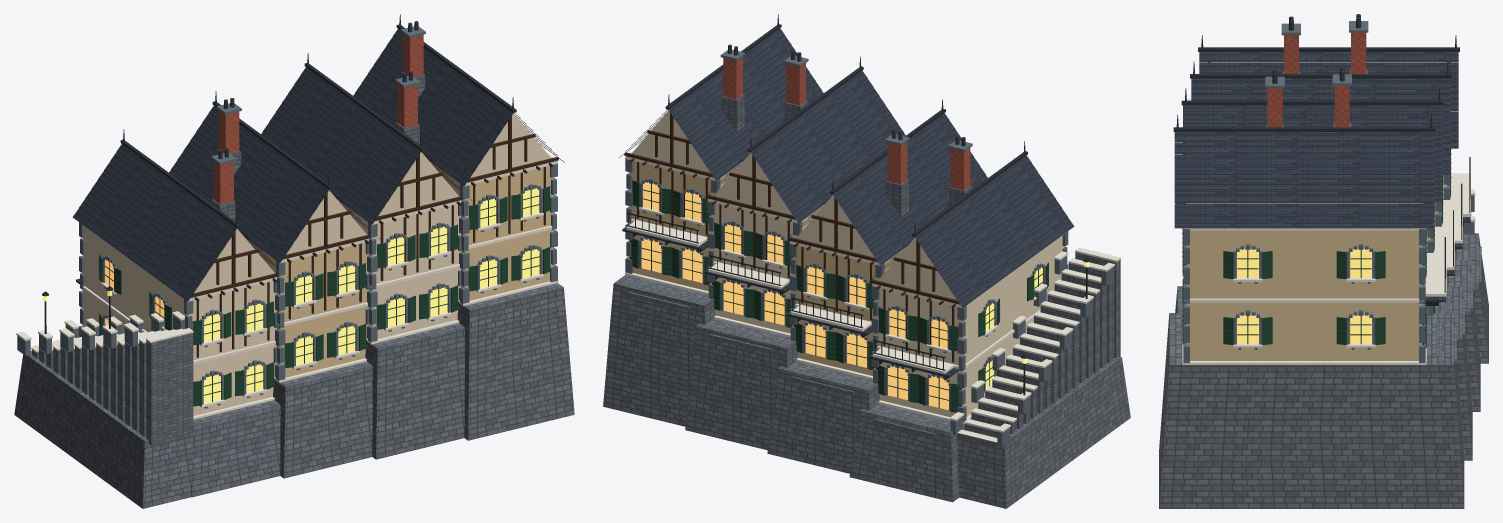
File: fv_nb_09_doc_nha_bo_mid_slope_retaining_villas.glb
3 renders of one model, left to right at view 1: azimuth 30°, elevation 25°; view 2: azimuth 150°, elevation 25°; view 3: azimuth 270°, elevation 25°, orthographic. The views are drawn at different scales.
Visible parts, largest first — view 1: Foundation_Skirt_Neg3p5m, Stepped_Normandy_Brittany_Roof, Shophouse_Stucco_Primary, Stone_Quoins_And_Arches, Shophouse_Stucco_Accent, PineGreen_Louvered_Shutters, Molded_Cornices_And_Sills, Warm_Night_Windows_20h00_Blend, Exposed_Timber_Trusses_And_Rafters, Roof_Ridges_Caps_And_Finials, Brick_Chimney_Stacks, Villa_Interior_Backing; view 2: Foundation_Skirt_Neg3p5m, Stepped_Normandy_Brittany_Roof, Shophouse_Stucco_Primary, Molded_Cornices_And_Sills, Stone_Quoins_And_Arches, PineGreen_Louvered_Shutters, Warm_Night_Windows_20h00_Blend, Exposed_Timber_Trusses_And_Rafters, Shophouse_Stucco_Accent, Roof_Ridges_Caps_And_Finials, Brick_Chimney_Stacks, Wrought_Iron_Balustrades_And_Lamps (+1 smaller); view 3: Foundation_Skirt_Neg3p5m, Stepped_Normandy_Brittany_Roof, Shophouse_Stucco_Accent, Molded_Cornices_And_Sills, Roof_Ridges_Caps_And_Finials, Stone_Quoins_And_Arches, PineGreen_Louvered_Shutters, Brick_Chimney_Stacks, Warm_Night_Windows_20h00_Blend, Wrought_Iron_Balustrades_And_Lamps.
Boxes of the visible parts, x1,y1,x2,y2 form: Foundation_Skirt_Neg3p5m: (14,72,574,508); Stepped_Normandy_Brittany_Roof: (72,21,513,301); Shophouse_Stucco_Primary: (83,113,551,415); Stone_Quoins_And_Arches: (17,26,557,408); Shophouse_Stucco_Accent: (246,163,553,377); PineGreen_Louvered_Shutters: (98,186,550,406); Molded_Cornices_And_Sills: (16,153,558,419); Warm_Night_Windows_20h00_Blend: (43,188,539,403); Exposed_Timber_Trusses_And_Rafters: (191,116,558,357); Roof_Ridges_Caps_And_Finials: (120,14,564,277); Brick_Chimney_Stacks: (213,34,423,204); Villa_Interior_Backing: (107,190,538,402); Foundation_Skirt_Neg3p5m: (603,94,1130,508); Stepped_Normandy_Brittany_Roof: (622,28,1074,377); Shophouse_Stucco_Primary: (632,110,1063,417); Molded_Cornices_And_Sills: (625,149,1120,442); Stone_Quoins_And_Arches: (625,49,1113,446); PineGreen_Louvered_Shutters: (629,180,1048,412); Warm_Night_Windows_20h00_Blend: (641,182,1089,410); Exposed_Timber_Trusses_And_Rafters: (624,112,959,362); Shophouse_Stucco_Accent: (629,161,905,375); Roof_Ridges_Caps_And_Finials: (619,14,1027,284); Brick_Chimney_Stacks: (723,57,970,190); Wrought_Iron_Balustrades_And_Lamps: (626,212,1089,395); Foundation_Skirt_Neg3p5m: (1159,69,1488,508); Stepped_Normandy_Brittany_Roof: (1174,14,1470,302); Shophouse_Stucco_Accent: (1186,202,1438,360); Molded_Cornices_And_Sills: (1182,98,1475,364); Roof_Ridges_Caps_And_Finials: (1173,35,1459,131); Stone_Quoins_And_Arches: (1183,21,1474,362); PineGreen_Louvered_Shutters: (1182,149,1451,348); Brick_Chimney_Stacks: (1267,32,1366,127); Warm_Night_Windows_20h00_Blend: (1237,249,1371,343); Wrought_Iron_Balustrades_And_Lamps: (1423,157,1470,305).
Bounding box in the file's own units: 26.62 × 21.29 × 16.1.
13 materials, 3 textured.
